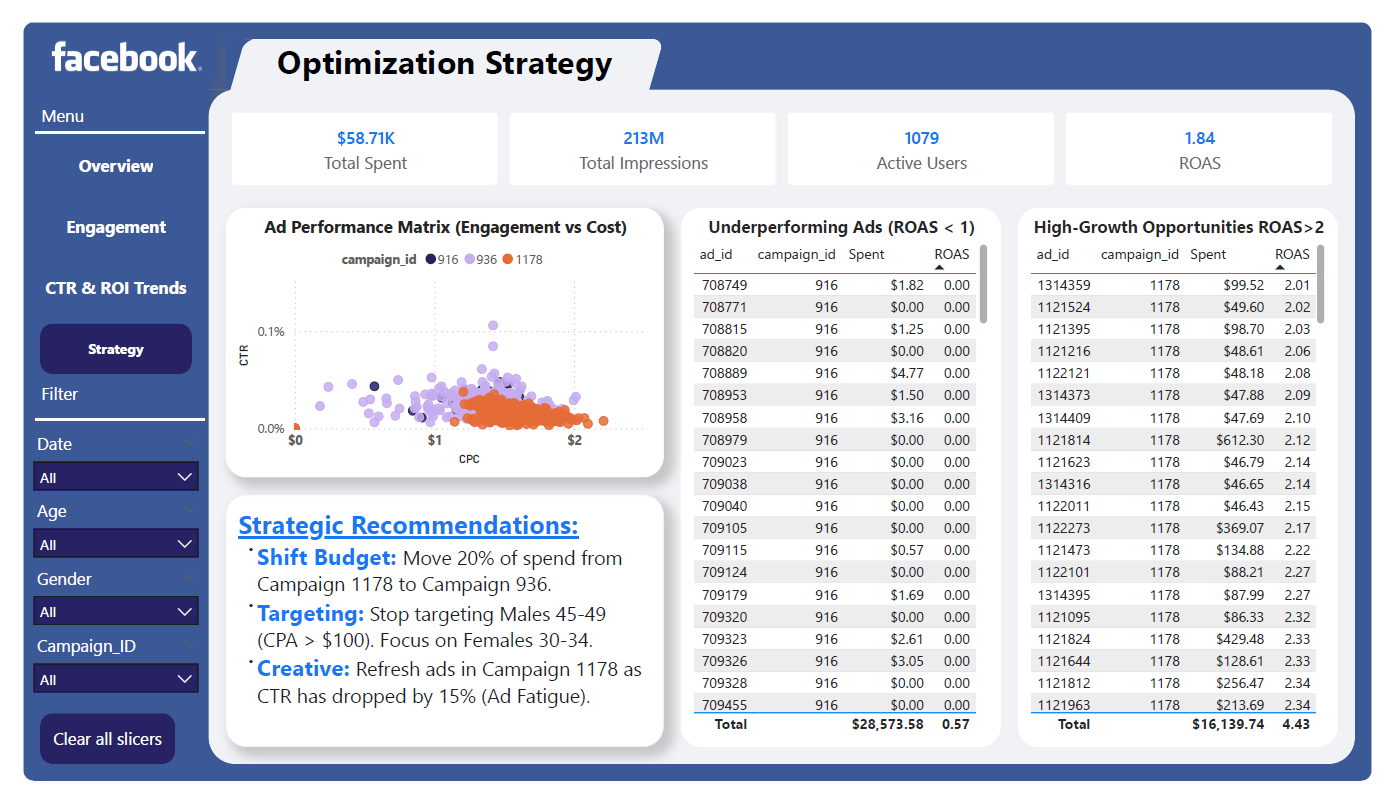

The dashboard page shown, as its layout file describes it:
{"tool":"powerbi","page":{"name":"Strategy","canvas":[1280,720],"ordinal":3},"visuals":[{"type":"shape","title":"bg","box":[0,0,1280,720],"z":0},{"type":"shape","box":[192,16,416,64],"z":500,"group":"g1"},{"type":"group","id":"g1","title":"Group 1","box":[176,16,1088,688],"z":1000},{"type":"shape","box":[176,64,1088,640],"z":1000,"group":"g1"},{"type":"textbox","box":[12,72.8,144,32],"z":2000},{"type":"shape","box":[12,96.8,160,16],"z":3000},{"type":"pageNavigator","box":[16,112,144,224],"z":4000},{"type":"textbox","box":[12,336.8,144,32],"z":5000},{"type":"shape","box":[12,368.8,160,16],"z":6000},{"type":"image","box":[8,8,176,48],"z":7000},{"type":"slicer","fields":{"Values":["Facebook Ads.reporting_start"]},"box":[0,384,176,64],"z":8000},{"type":"actionButton","box":[16,656,128,48],"z":9000},{"type":"slicer","fields":{"Values":["Facebook Ads.gender"]},"box":[0,512,176,64],"z":11000},{"type":"slicer","fields":{"Values":["Facebook Ads.campaign_id"]},"box":[0,576,176,64],"z":12000},{"type":"slicer","fields":{"Values":["Facebook Ads.age"]},"box":[0,448,176,64],"z":13000},{"type":"cardVisual","fields":{"Data":["_Key Measures.Total Spend","_Key Measures.Total Impressions","_Key Measures.Total Approved Conversions","_Key Measures.ROAS"]},"box":[192,80,1056,80],"z":14000},{"type":"tableEx","title":"Underperforming Ads (ROAS < 1)","fields":{"Values":["Facebook Ads.ad_id","Facebook Ads.campaign_id","_Key Measures.Total Spent","_Key Measures.ROAS"]},"box":[624,176,304,512],"z":15000},{"type":"scatterChart","title":"Ad Performance Matrix (Engagement vs Cost)","fields":{"X":["_Key Measures.CPC"],"Y":["_Key Measures.CTR"],"Category":["Facebook Ads.ad_id"],"Series":["Facebook Ads.campaign_id"]},"box":[192,176,416,256],"z":16000},{"type":"tableEx","title":"High-Growth Opportunities ROAS>2","fields":{"Values":["Facebook Ads.ad_id","Facebook Ads.campaign_id","_Key Measures.Total Spent","_Key Measures.ROAS"]},"box":[944,176,304,512],"z":17001},{"type":"textbox","box":[192,448,416,240],"z":17002,"group":"g1"}]}

Visuals, with their boxes in screenshot pixels (x1, y1, x2, y2), scaled from the page's 1280x720 canvas onto the 1394x802 screenshot:
"bg" shape: bbox=[0, 0, 1393, 801]
shape: bbox=[209, 18, 662, 89]
"Group 1" group: bbox=[192, 18, 1377, 784]
shape: bbox=[192, 71, 1377, 784]
textbox: bbox=[13, 81, 170, 117]
shape: bbox=[13, 108, 187, 126]
pageNavigator: bbox=[17, 125, 174, 374]
textbox: bbox=[13, 375, 170, 411]
shape: bbox=[13, 411, 187, 429]
image: bbox=[9, 9, 200, 62]
slicer - Facebook Ads.reporting_start: bbox=[0, 428, 192, 499]
actionButton: bbox=[17, 731, 157, 784]
slicer - Facebook Ads.gender: bbox=[0, 570, 192, 642]
slicer - Facebook Ads.campaign_id: bbox=[0, 642, 192, 713]
slicer - Facebook Ads.age: bbox=[0, 499, 192, 570]
cardVisual - _Key Measures.Total Spend x _Key Measures.Total Impressions: bbox=[209, 89, 1359, 178]
"Underperforming Ads (ROAS < 1)" tableEx: bbox=[680, 196, 1011, 766]
"Ad Performance Matrix (Engagement vs Cost)" scatterChart: bbox=[209, 196, 662, 481]
"High-Growth Opportunities ROAS>2" tableEx: bbox=[1028, 196, 1359, 766]
textbox: bbox=[209, 499, 662, 766]
